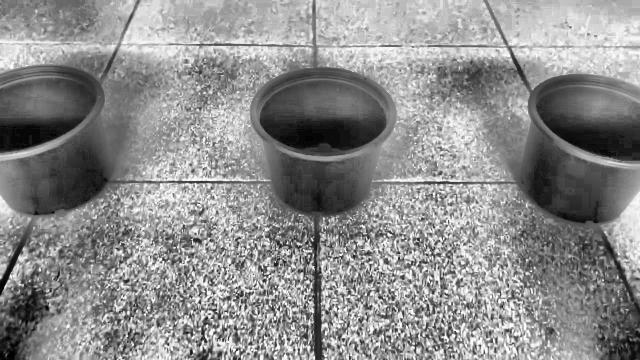pot: (250, 68, 396, 216), (518, 74, 640, 225), (0, 66, 112, 217)
